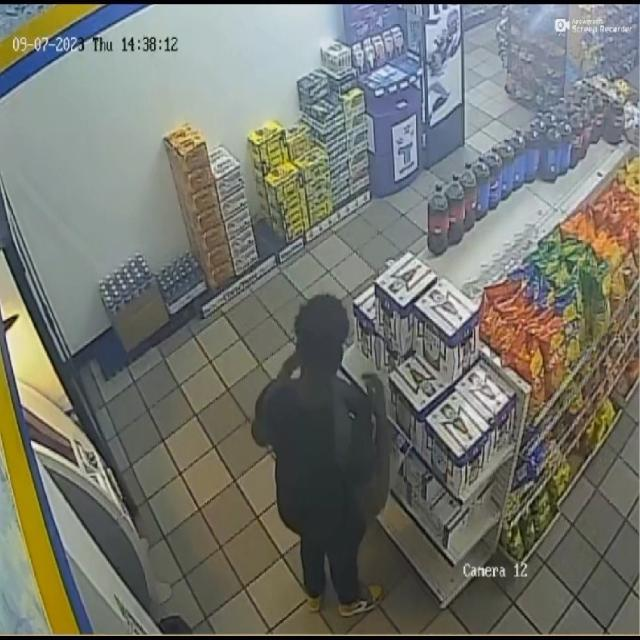normal: (236, 305, 414, 626)
